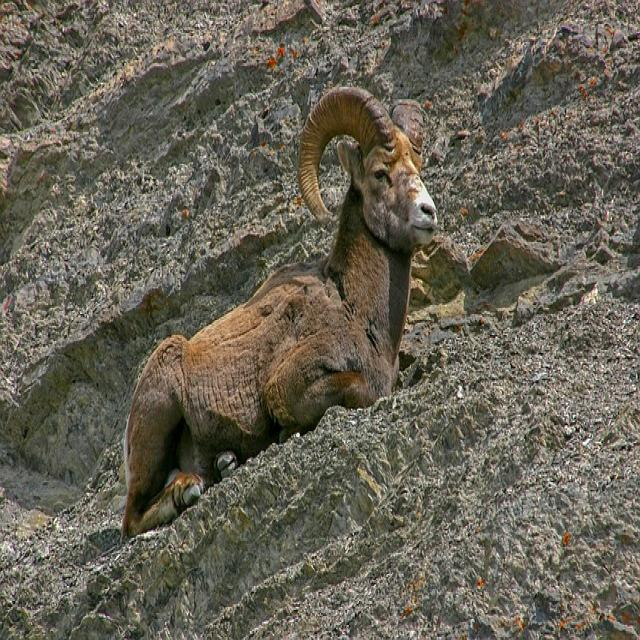goat: (122, 86, 438, 536)
